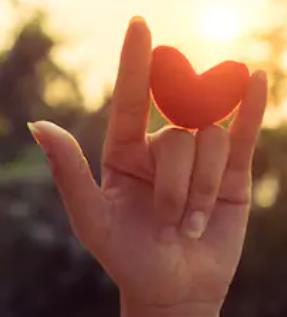back: (19, 11, 273, 295)
